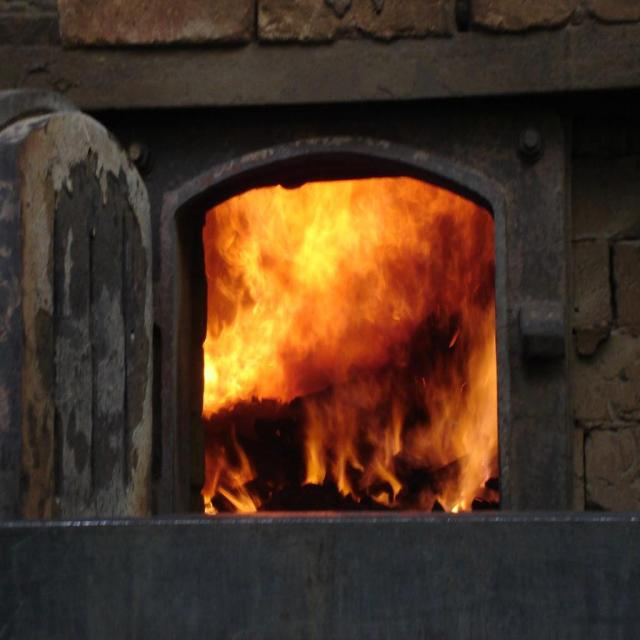Fire: (202, 180, 510, 512)
